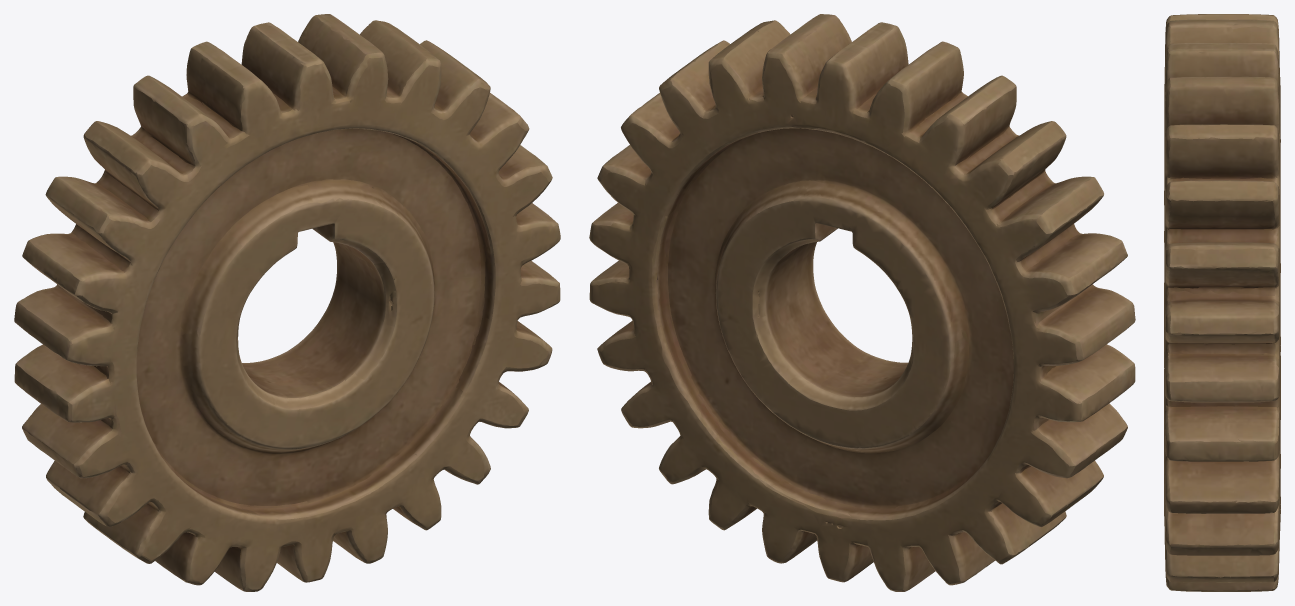
3 views of the same model, side by side, from view 1: azimuth 30°, elevation 25°; view 2: azimuth 150°, elevation 25°; view 3: azimuth 270°, elevation 25° (orthographic).
Parts seen in each view (by area): view 1: geometry_0; view 2: geometry_0; view 3: geometry_0.
Boxes of the visible parts, x1,y1,x2,y2 form: geometry_0: [14, 14, 560, 591]; geometry_0: [589, 14, 1135, 591]; geometry_0: [1164, 14, 1280, 591].
Bounding box in the file's own units: 0.08 × 0.08 × 0.0166.
Materials: 1 (1 with a texture image).
